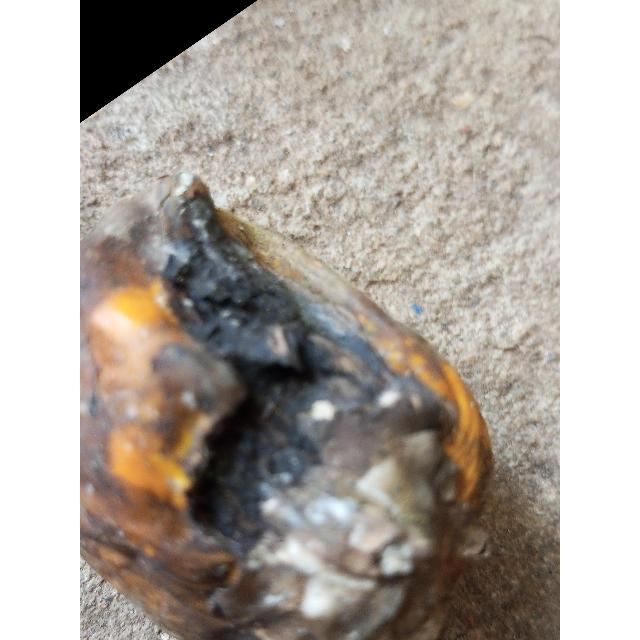damaged: (80, 173, 492, 640)
